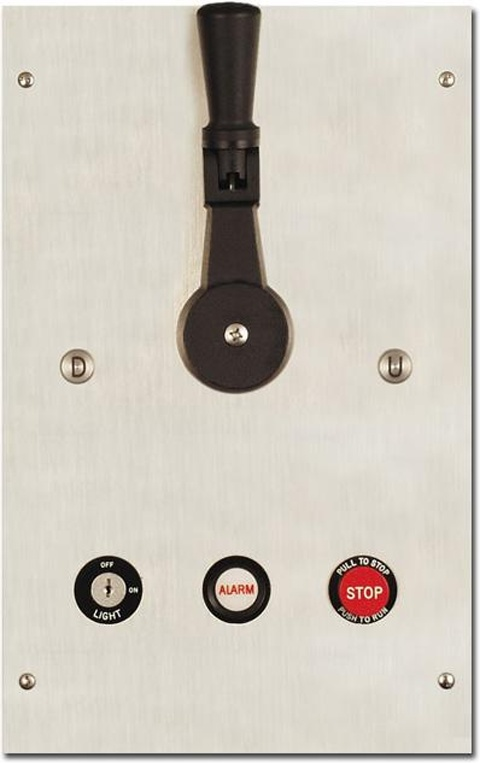D: (55, 343, 98, 387)
U: (373, 344, 416, 388)
keyhole: (68, 550, 145, 628)
text_alarm: (197, 549, 274, 627)
text_stop: (321, 550, 398, 628)
